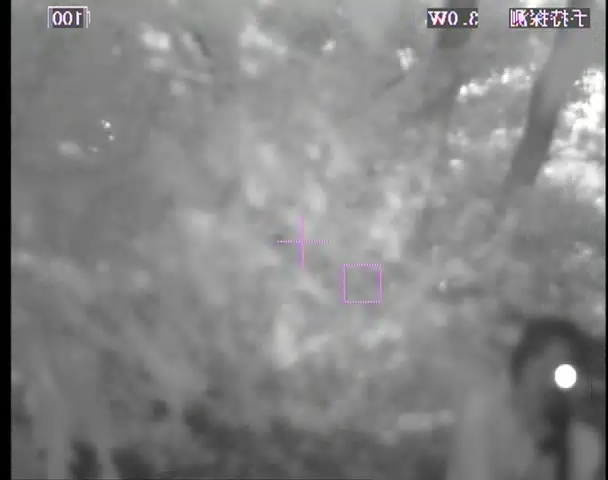my: (554, 363, 579, 391)
